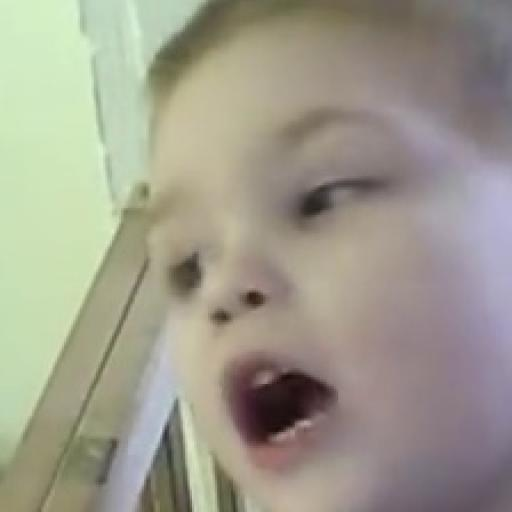Autism: (98, 20, 512, 512)
